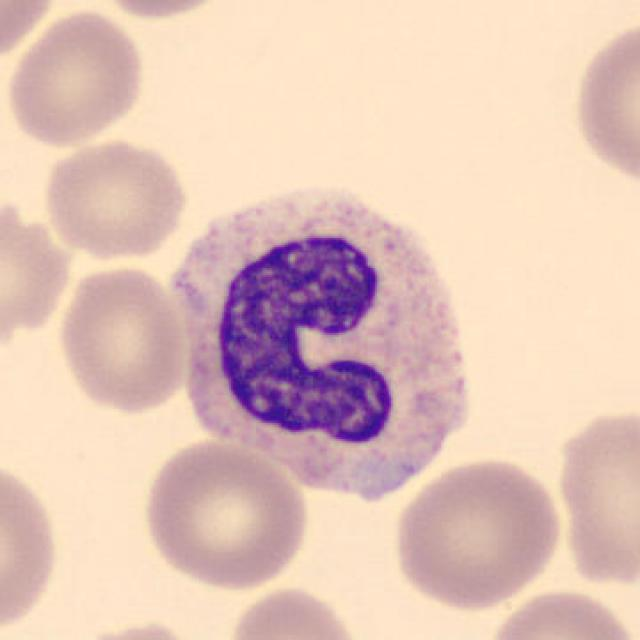Neutrophil: (166, 175, 484, 511)
RBC: (388, 453, 566, 612), (137, 436, 313, 592), (53, 261, 192, 416), (2, 7, 149, 150), (39, 136, 192, 261), (551, 399, 640, 594), (567, 11, 638, 196), (0, 184, 75, 345), (0, 452, 64, 638), (481, 583, 638, 640), (222, 583, 368, 640), (0, 0, 62, 63), (59, 617, 210, 640), (89, 0, 240, 23)
